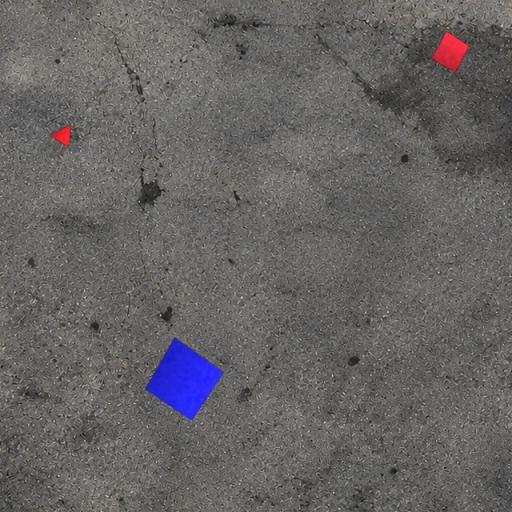BLUE_SQUARE: (145, 336, 225, 422)
RED_SQUARE: (430, 30, 470, 74)
